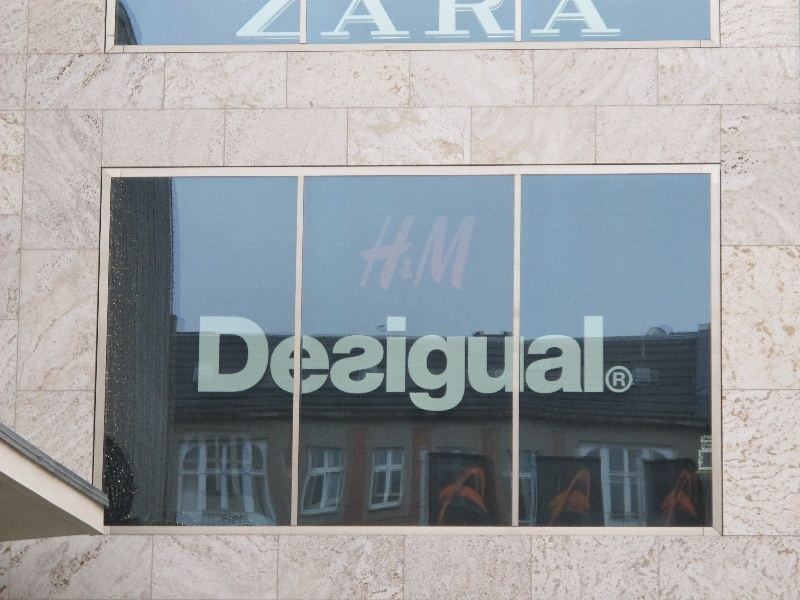text: (209, 314, 224, 415), (225, 314, 240, 415), (241, 314, 256, 415), (257, 314, 272, 415), (273, 314, 288, 415), (289, 314, 304, 415), (305, 314, 320, 415), (321, 314, 336, 415), (337, 314, 352, 415), (353, 314, 368, 415), (369, 314, 384, 415), (385, 314, 400, 415), (401, 314, 416, 415), (417, 314, 432, 415), (433, 314, 448, 415), (449, 314, 464, 415), (465, 314, 480, 415), (481, 314, 496, 415), (497, 314, 512, 415), (513, 314, 528, 415), (529, 314, 544, 415), (545, 314, 560, 415), (561, 314, 576, 415), (577, 314, 592, 415), (369, 214, 384, 298), (385, 214, 400, 298), (401, 214, 416, 298), (417, 214, 432, 298), (433, 214, 448, 298), (449, 214, 464, 298), (593, 314, 604, 415), (465, 214, 478, 298), (199, 314, 208, 415), (273, 1, 288, 42), (289, 1, 304, 42), (305, 1, 320, 42), (321, 1, 336, 42), (337, 1, 352, 42), (353, 1, 368, 42), (369, 1, 384, 42), (385, 1, 400, 42), (401, 1, 416, 42), (417, 1, 432, 42), (433, 1, 448, 42), (449, 1, 464, 42), (465, 1, 480, 42), (481, 1, 496, 42), (497, 1, 512, 42), (513, 1, 528, 42), (529, 1, 544, 42), (545, 1, 560, 42), (561, 1, 576, 42), (577, 1, 592, 42), (593, 1, 608, 42), (609, 1, 624, 42), (613, 369, 624, 392), (267, 1, 272, 42), (625, 1, 628, 42), (625, 369, 627, 392)
